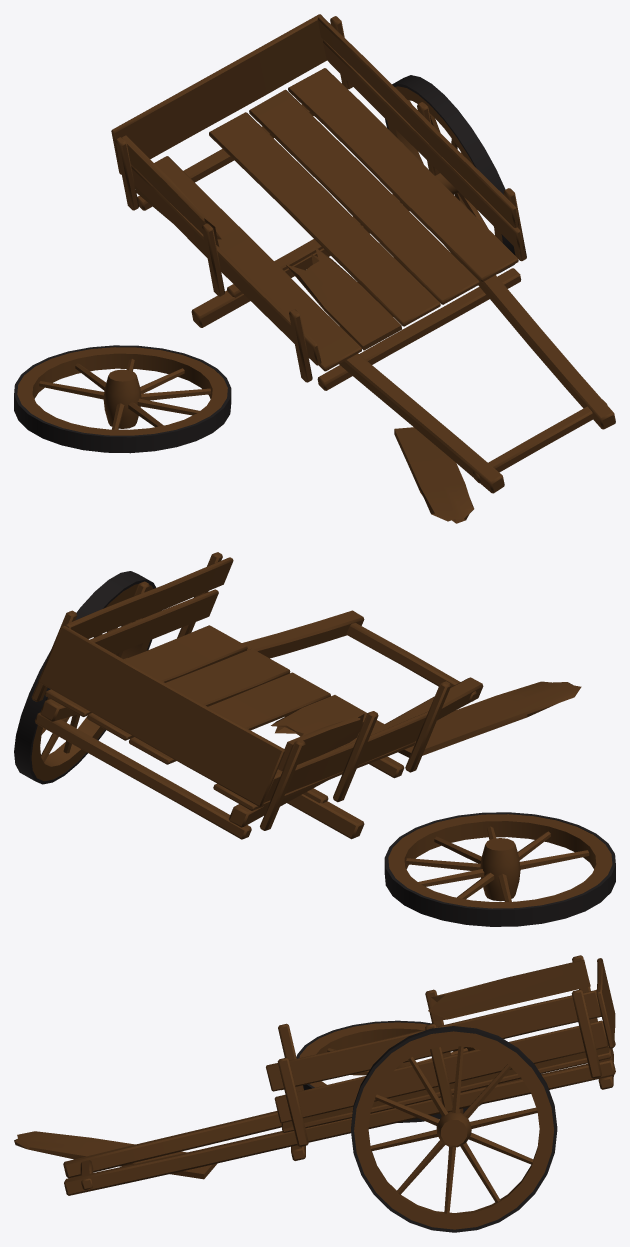
The model's file is karren_kaputt.glb.
The picture shows the model from 3 angles, top to bottom: view 1: azimuth 30°, elevation 25°; view 2: azimuth 150°, elevation 25°; view 3: azimuth 270°, elevation 25°; orthographic projection. The views are drawn at different scales.
Parts seen in each view (by area): view 1: karren_kaputt; view 2: karren_kaputt; view 3: karren_kaputt.
Part boxes in pixels (box(x1,y1,x2,y2)): karren_kaputt: box(14, 14, 615, 523); karren_kaputt: box(14, 552, 615, 926); karren_kaputt: box(14, 955, 615, 1232).
Size of the model in its own units: 2.37 by 1.21 by 2.67.
